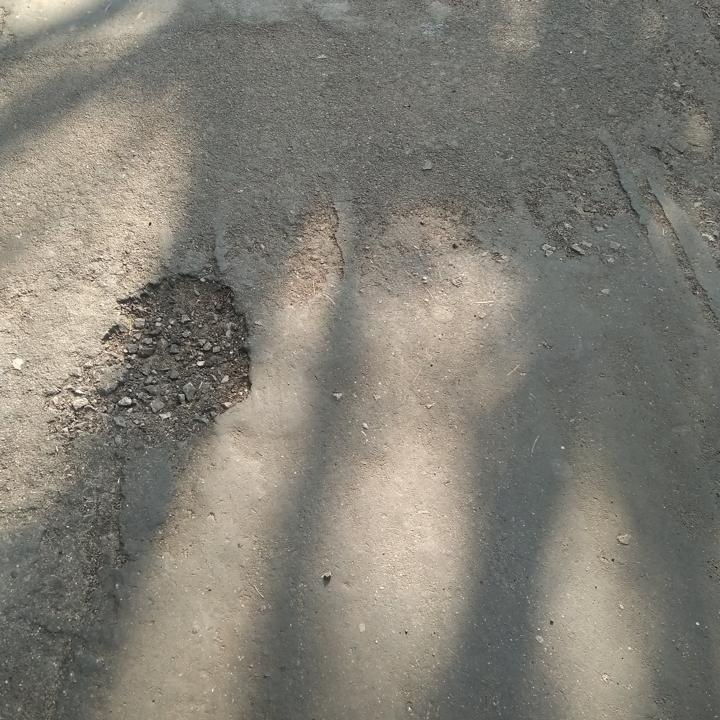pothole: (78, 266, 261, 436)
